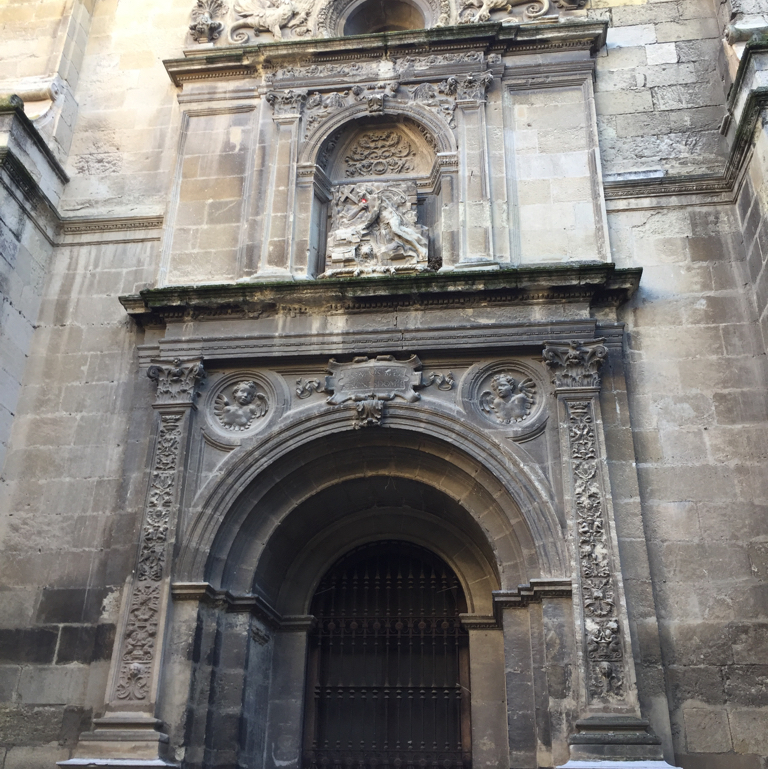arco-medio-punto: (188, 412, 551, 624), (305, 104, 446, 185)
